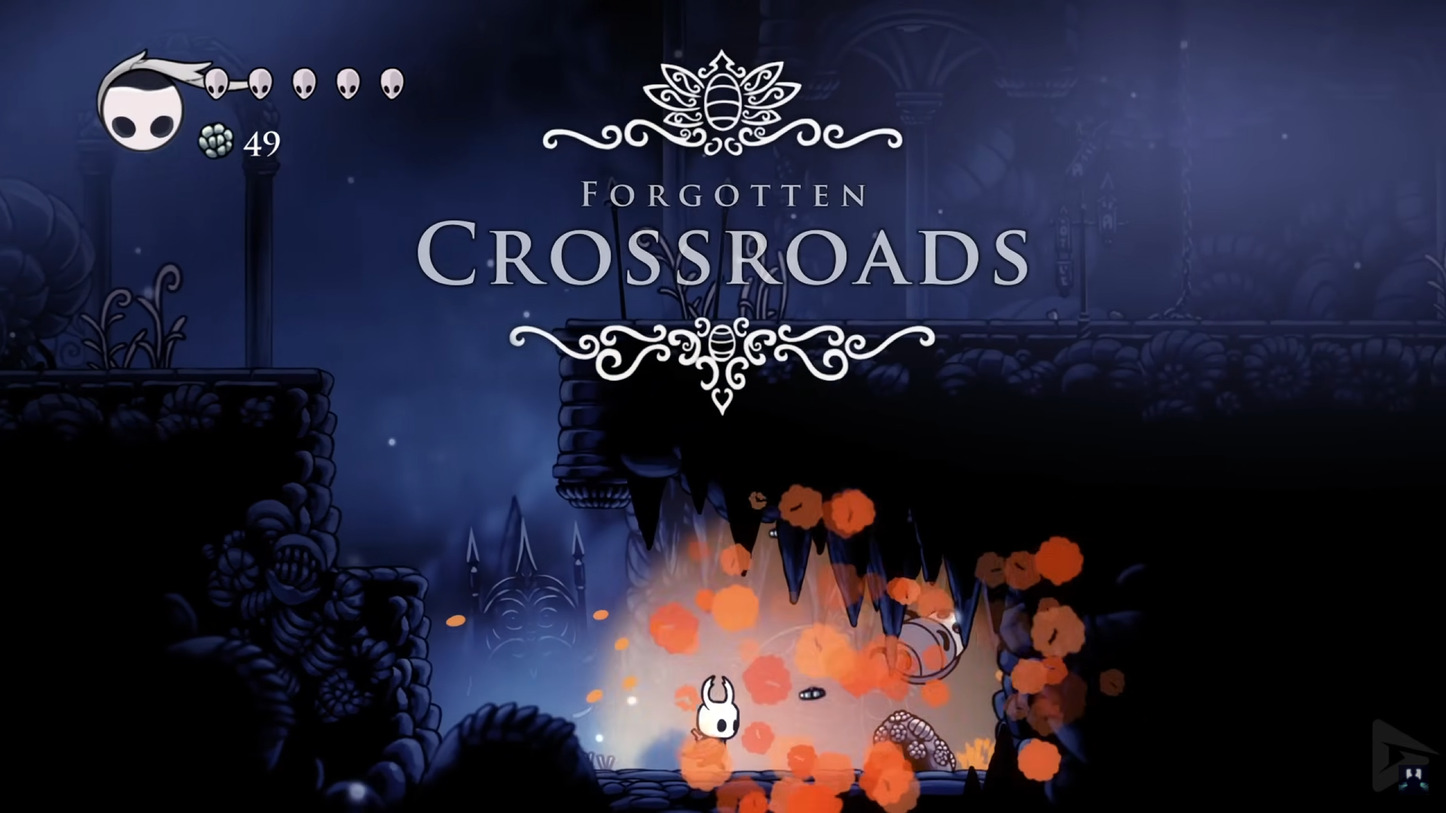HK: (682, 672, 745, 775)
